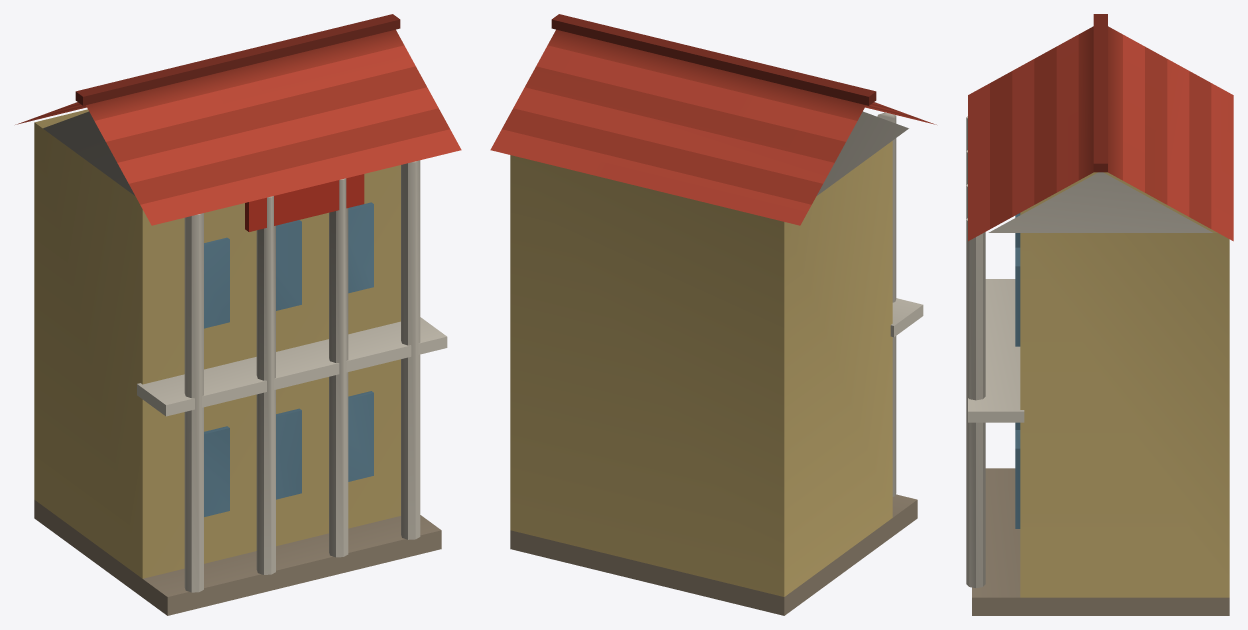
The model's file is uy-ban.glb.
The picture shows the model from 3 angles, left to right: view 1: azimuth 30°, elevation 25°; view 2: azimuth 150°, elevation 25°; view 3: azimuth 270°, elevation 25°; orthographic projection. The views are drawn at different scales.
Visible parts, largest first — view 1: uy-ban; view 2: uy-ban; view 3: uy-ban.
Boxes of the visible parts, x1,y1,x2,y2 form: uy-ban: (15, 14, 461, 615); uy-ban: (490, 14, 936, 615); uy-ban: (966, 14, 1233, 615).
Size of the model in its own units: 4.4 by 6.34 by 3.32.
